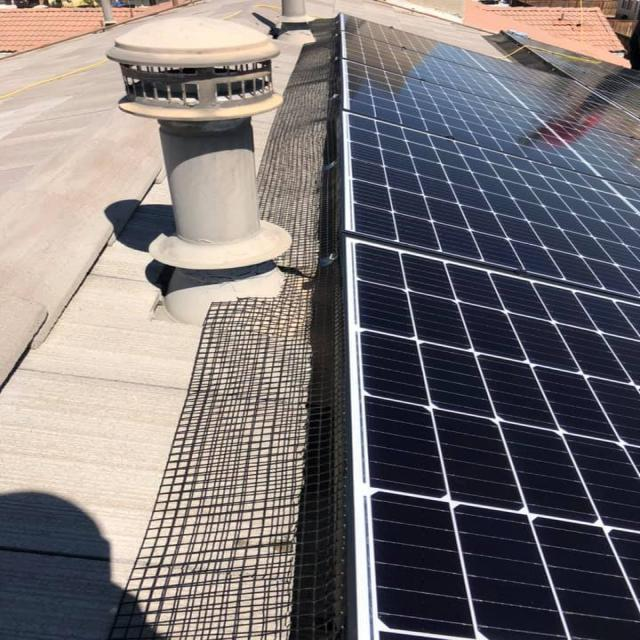clean-solar-panel: (335, 16, 638, 640)
